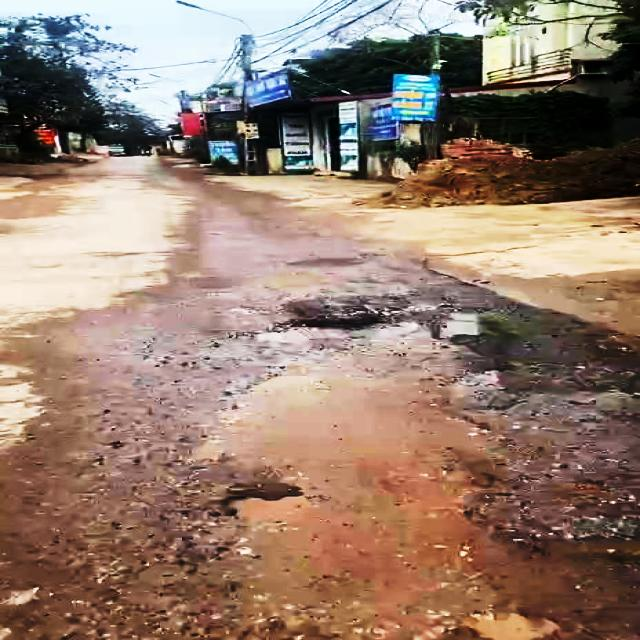pothole: (165, 297, 640, 639)
